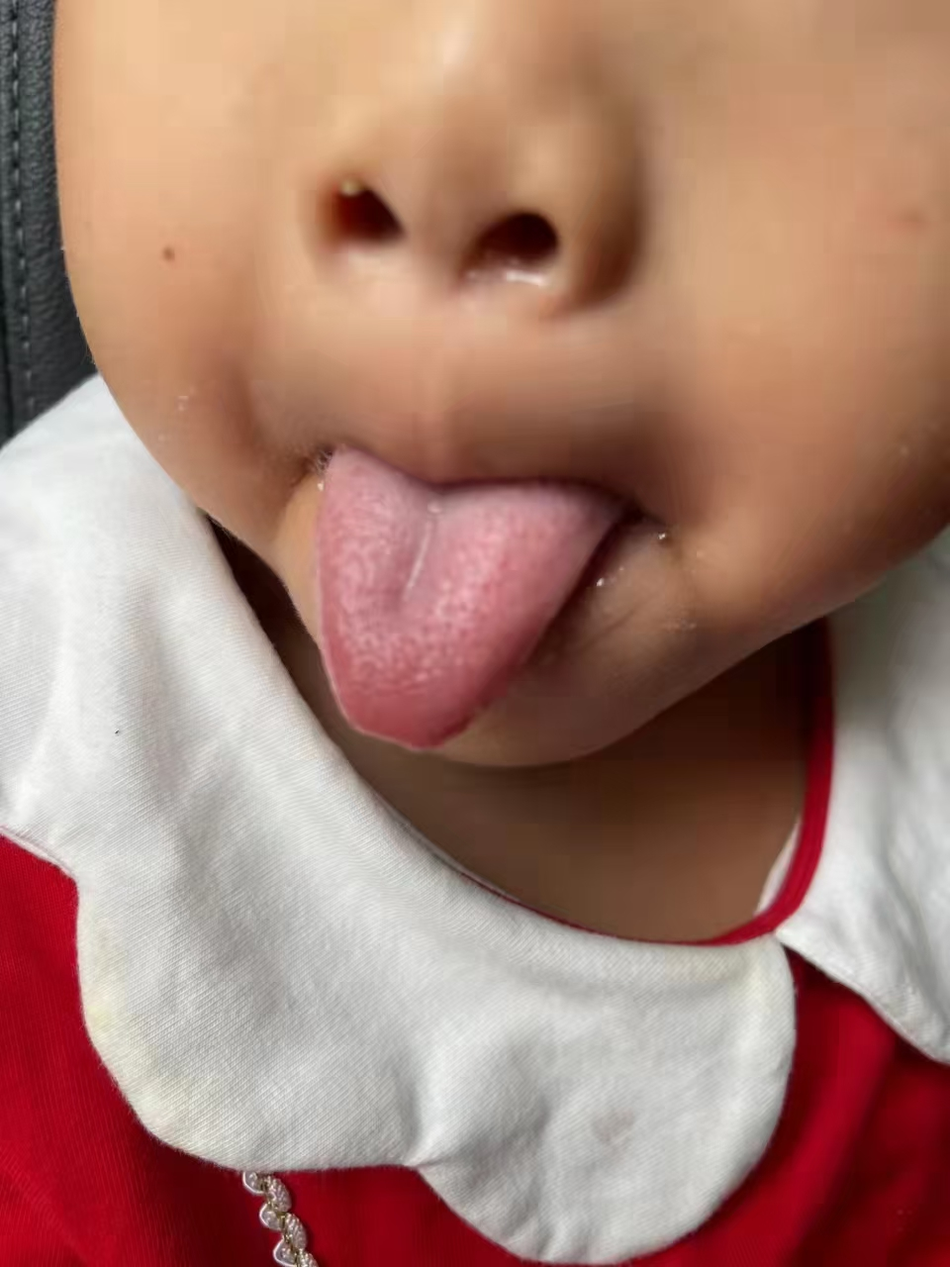baitaishe: (317, 442, 617, 749)
hongshe: (317, 441, 617, 748)
